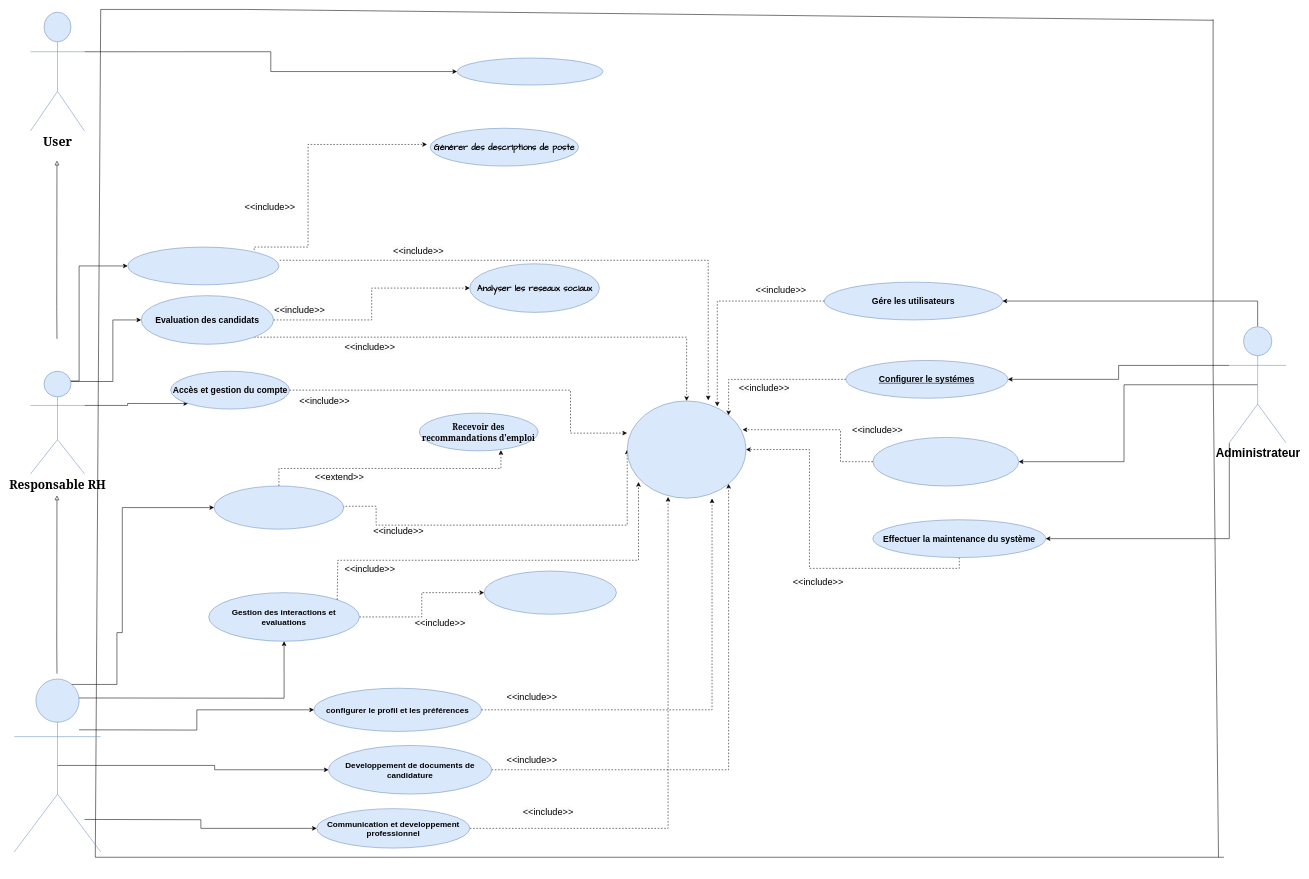
Some shapes in this 1309 by 879 pixel diagram are drawn without their labels. Each missing label, with the centre of its shape:
Candidat: (x=57, y=765)
Gestion des offres d'emploi: (x=203, y=266)
Mettre à jour les modéles d'IA: (x=945, y=461)
Planifier des entretiens: (x=550, y=592)
Recherche et application: (x=279, y=507)
S'authentifier: (x=686, y=449)
S'inscriire: (x=530, y=71)
